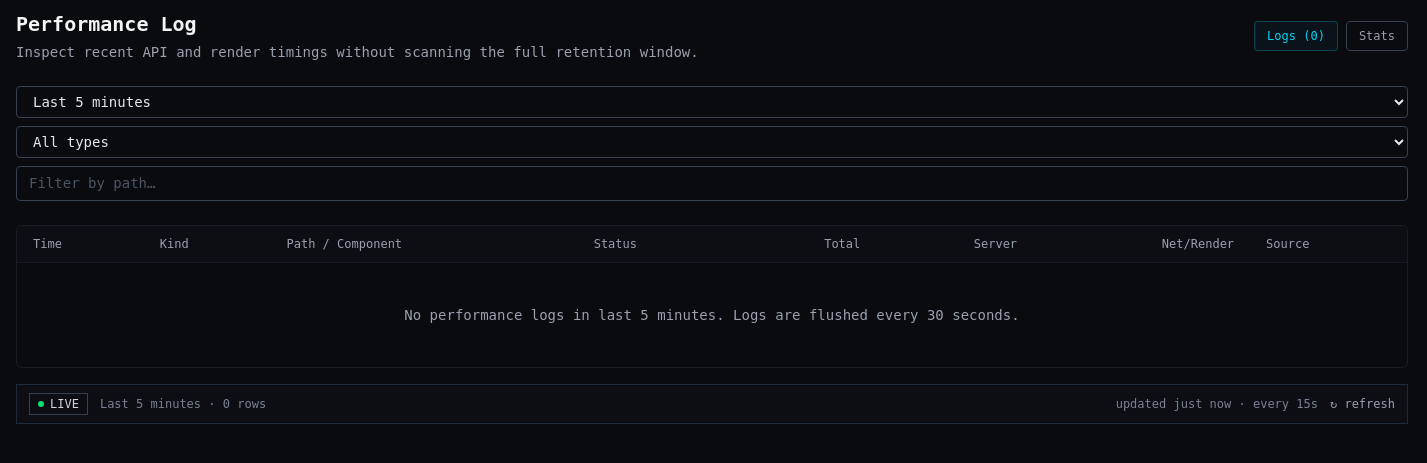
Test case: PerfLogPage time filters › keeps kind and path filters on the log view and exposes an accessible stats tab
Step 1. Select "API only" in the dropdown named "Log kind" → (712, 142), box [16,126,1408,158]
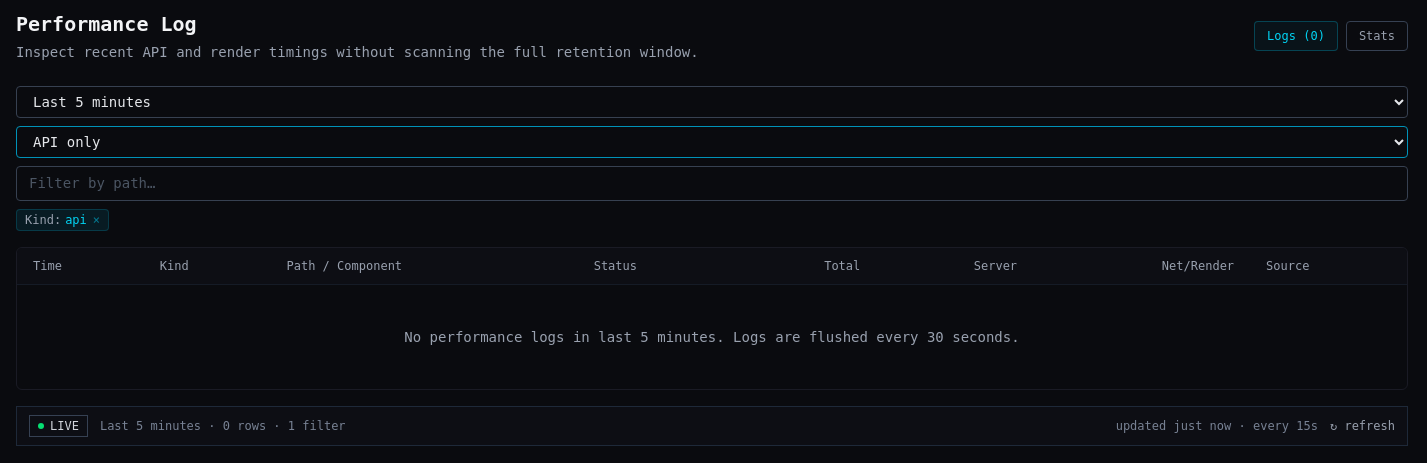
Step 2. Type "/health" into the search field named "Filter logs by path" → (712, 184), box [16,166,1408,201]
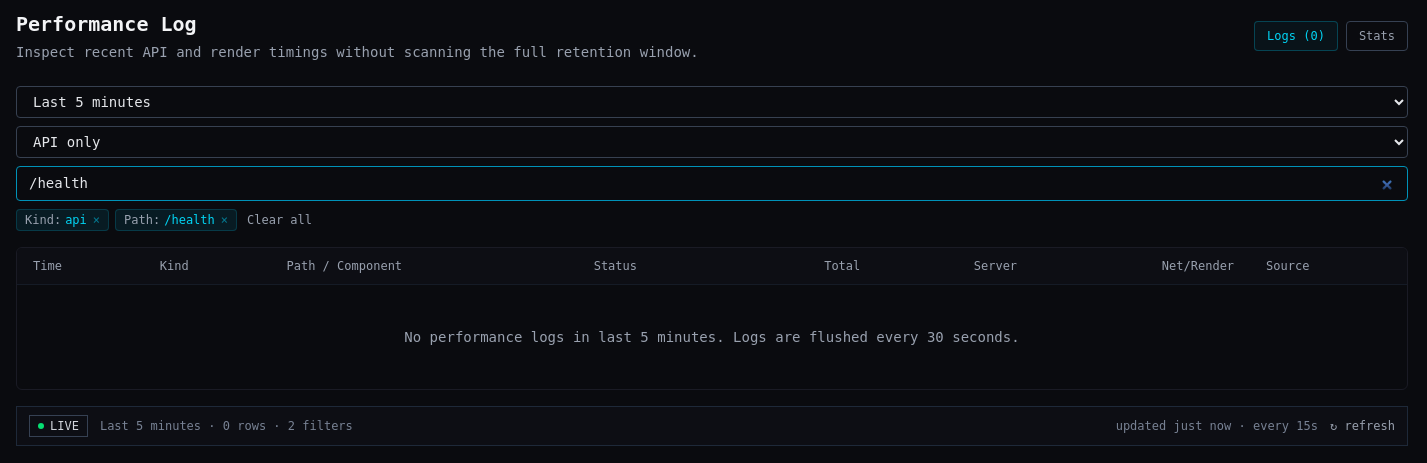
Step 3. Click the tab "Stats" → (1377, 36), box [1346,21,1408,51]
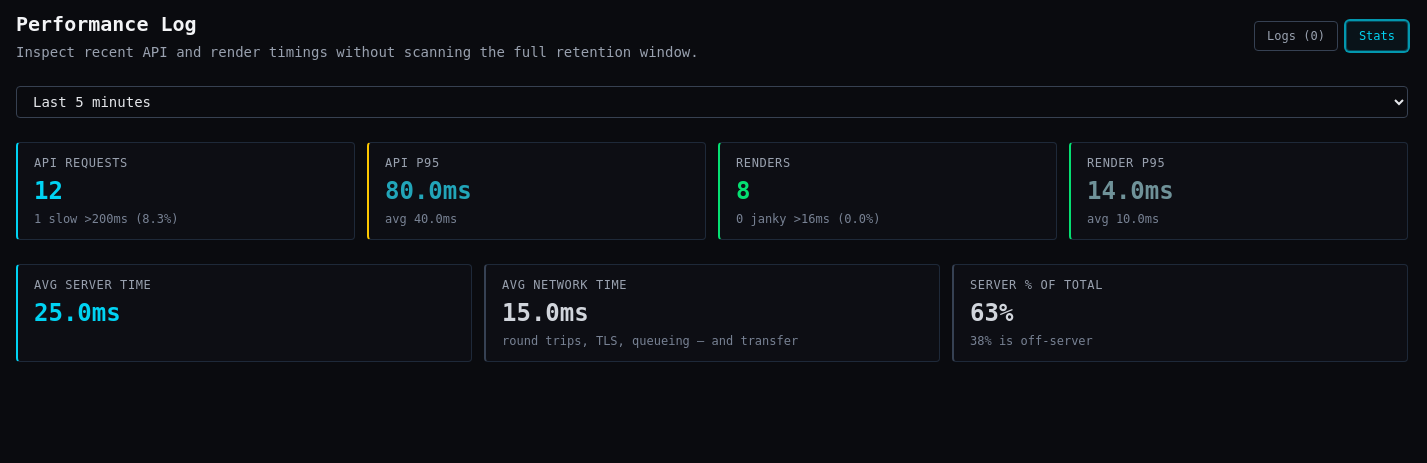
Expected: the text "API Requests" is shown, [34,156,128,170]
